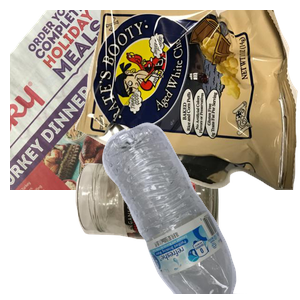glass: (73, 153, 284, 300)
paper: (10, 10, 247, 190)
plastic: (100, 120, 300, 300)
trash: (75, 10, 300, 190)
